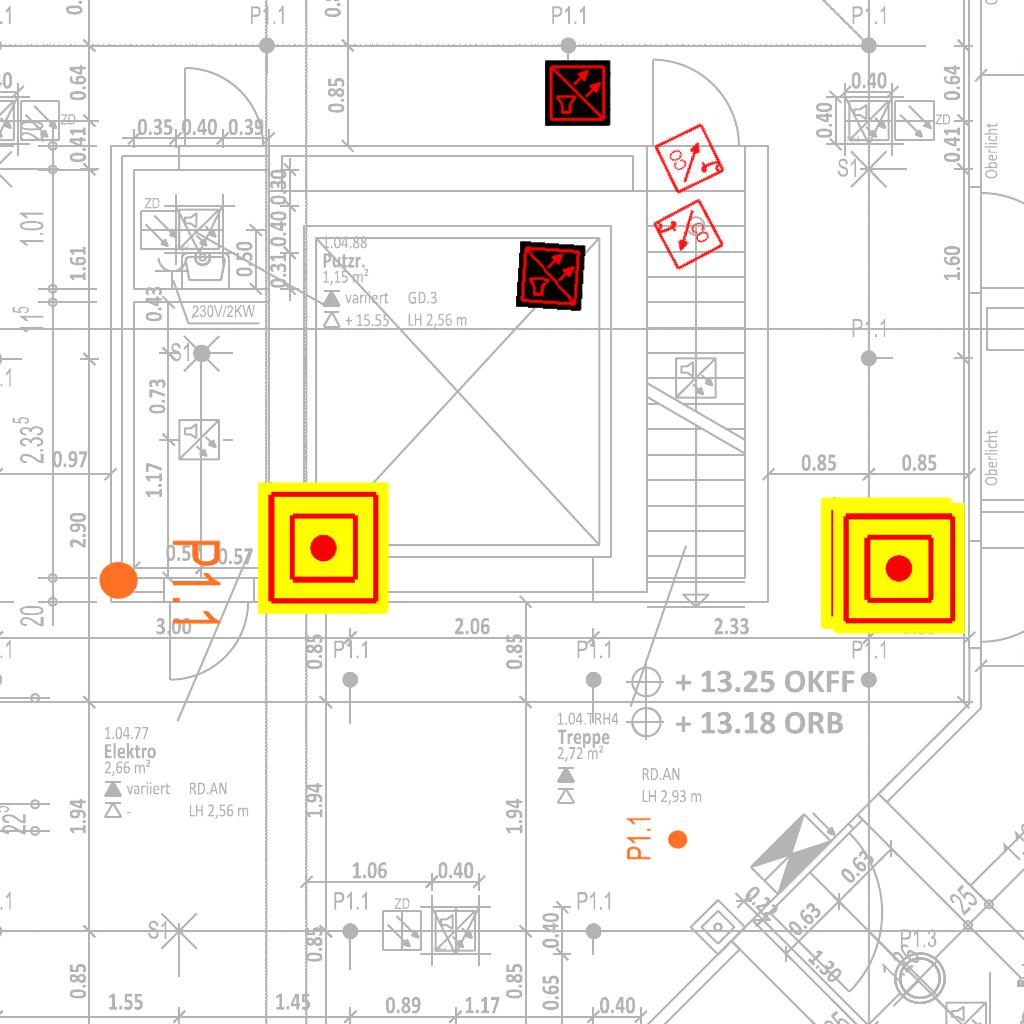Downlight_LED_Einbauleuchten_Flur: (96, 537, 224, 630), (625, 815, 689, 861)
NAM-Nichtautomatischer_Melder: (820, 497, 952, 629), (257, 482, 389, 614), (833, 502, 965, 634)
OKW_Multisensormelder_(Kombination_optischer_Rauch-Kahlenmonoxid_Waerme-Melder): (515, 240, 587, 312), (545, 60, 611, 126)
ROA_Rauchmelder_optisch_mit_Signalgeber_(Sockelsirene): (650, 197, 726, 273), (652, 120, 728, 196)
